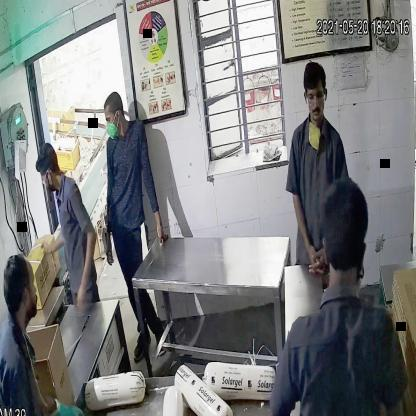goggles: (302, 88, 328, 106)
